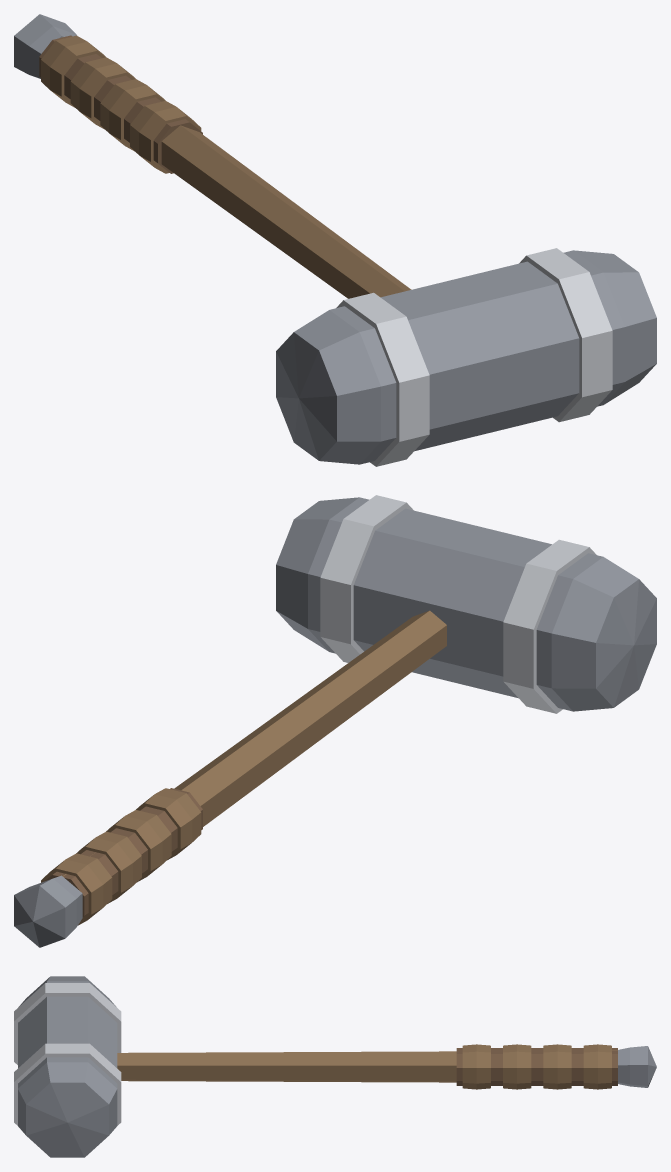
File: deepsledge.glb
3 views of the same model, one above another, from view 1: azimuth 30°, elevation 25°; view 2: azimuth 150°, elevation 25°; view 3: azimuth 270°, elevation 25° (orthographic). The views are drawn at different scales.
Visible parts, largest first — view 1: deepsledge; view 2: deepsledge; view 3: deepsledge.
Part boxes in pixels (x1,y1,x2,y2): deepsledge: [14, 14, 656, 466]; deepsledge: [14, 495, 656, 947]; deepsledge: [14, 976, 656, 1157].
Size of the model in its own units: 0.44 by 0.1792 by 1.07.
